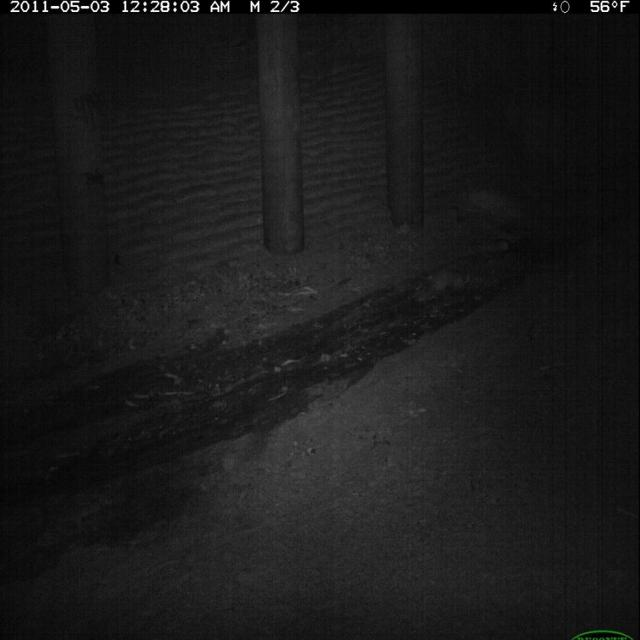opossum: (408, 263, 475, 307)
